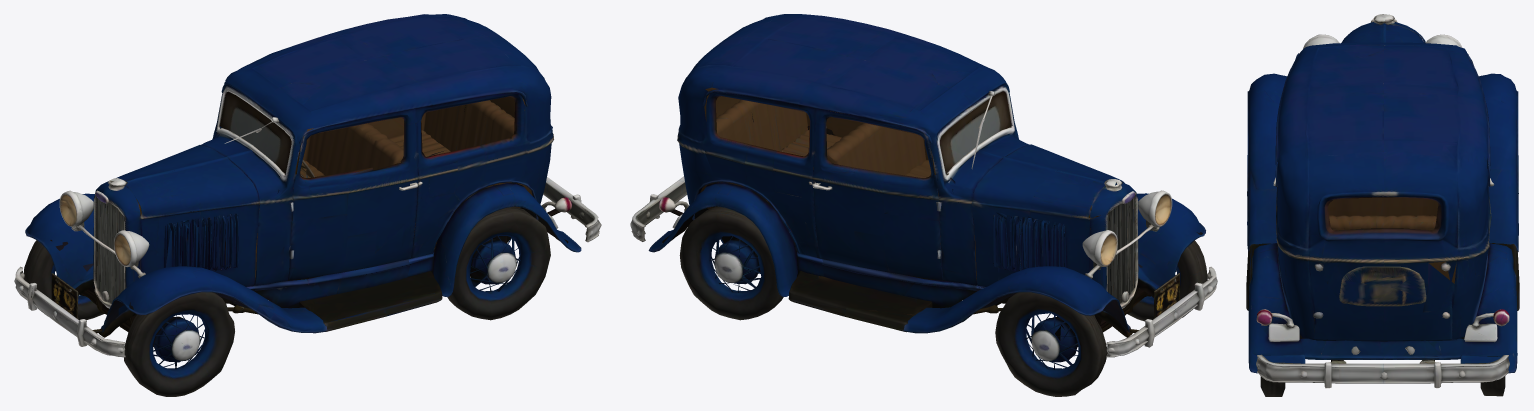
The model's file is ford_32_tudor.glb.
3 views of the same model, side by side, from view 1: azimuth 30°, elevation 25°; view 2: azimuth 150°, elevation 25°; view 3: azimuth 270°, elevation 25° (orthographic). The views are drawn at different scales.
Bounding box in the file's own units: 0.9575 × 0.4316 × 0.4067.
1 material, 1 textured.
